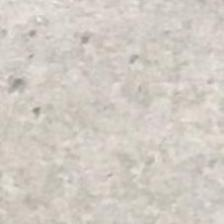Non_Crack: (35, 35, 193, 198)
